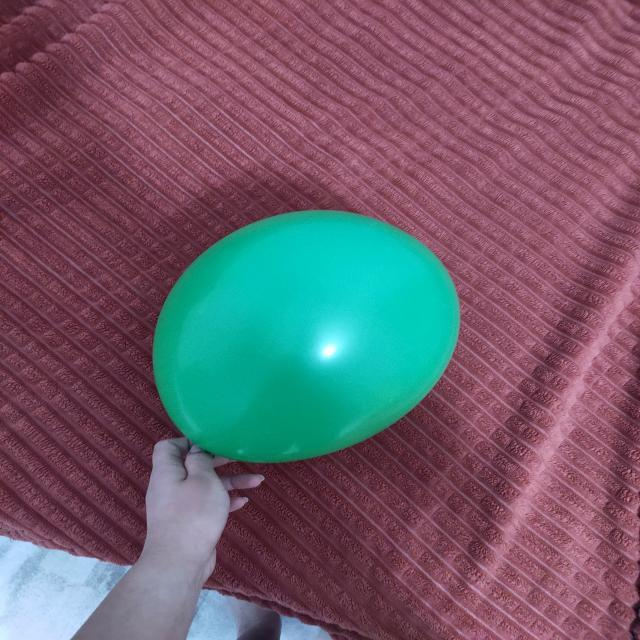green: (153, 211, 462, 466)
